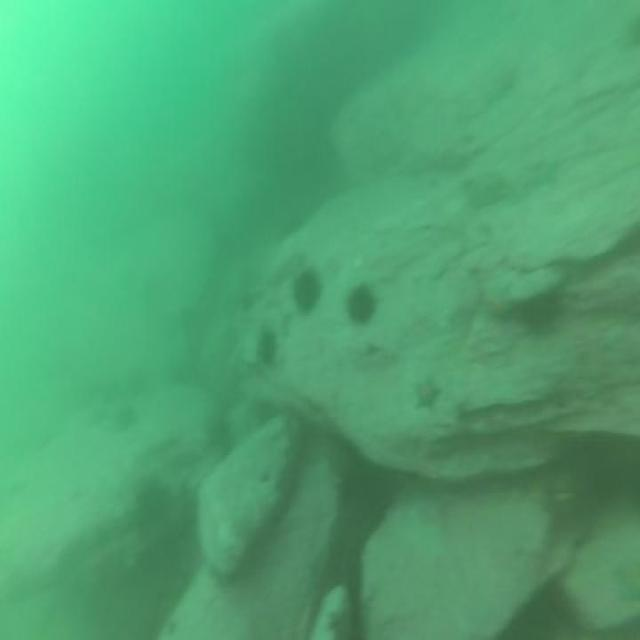echinus: (516, 288, 562, 336), (343, 278, 380, 332), (290, 264, 322, 314), (254, 319, 281, 373)
starfish: (411, 370, 445, 419)
